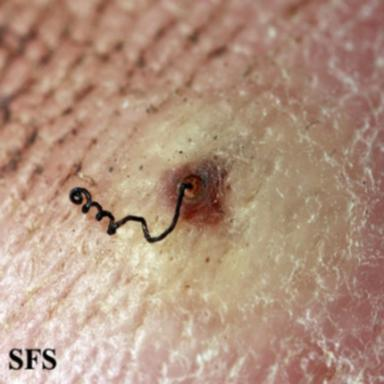Tungiasis: (68, 107, 339, 314)
